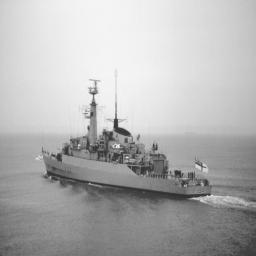Fragata: (43, 76, 212, 202)
